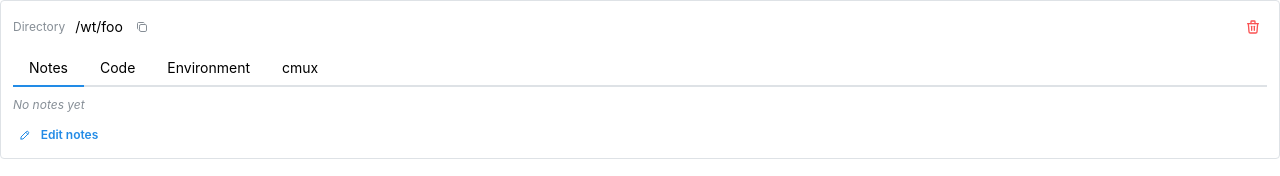
Test case: Code tab summary › says the worktree is missing from disk
Click the tab "Code". click: point(118, 69)
box: [84,51,151,87]
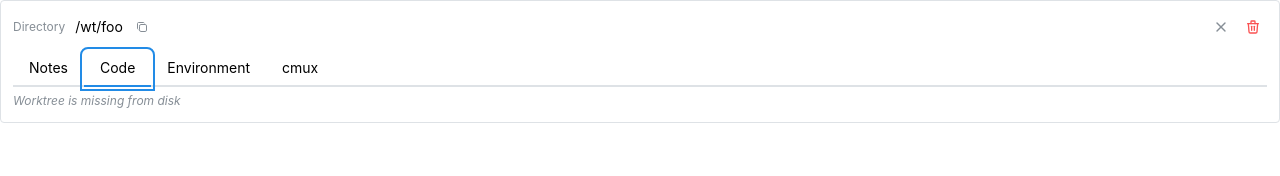
Expected: the text "Worktree is missing from disk" is shown, [13,93,181,108]
